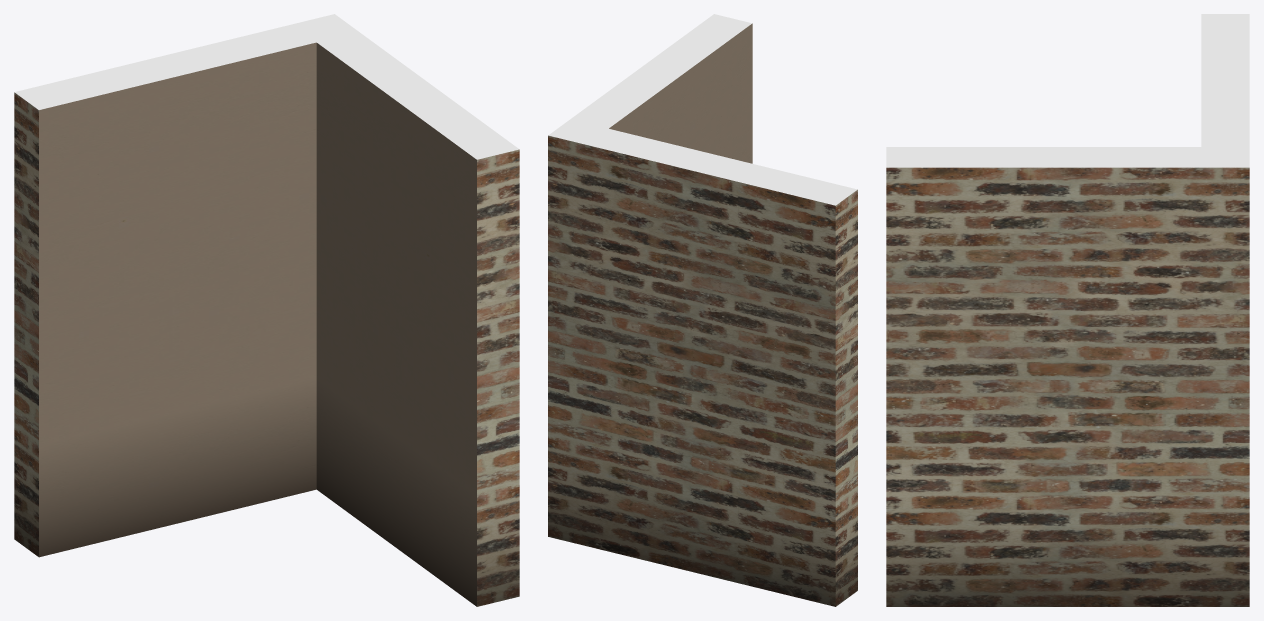
Rendered from wall_corner.glb.
3 views of the same model, side by side, from view 1: azimuth 30°, elevation 25°; view 2: azimuth 150°, elevation 25°; view 3: azimuth 270°, elevation 25° (orthographic). The views are drawn at different scales.
Visible parts, largest first — view 1: wall_corner-col; view 2: wall_corner-col; view 3: wall_corner-col.
Boxes of the visible parts, x1,y1,x2,y2 form: wall_corner-col: (14,14,519,606); wall_corner-col: (548,14,857,606); wall_corner-col: (886,14,1249,606).
Size of the model in its own units: 1.5 by 2 by 1.5.
Materials: 3 (2 with a texture image).
